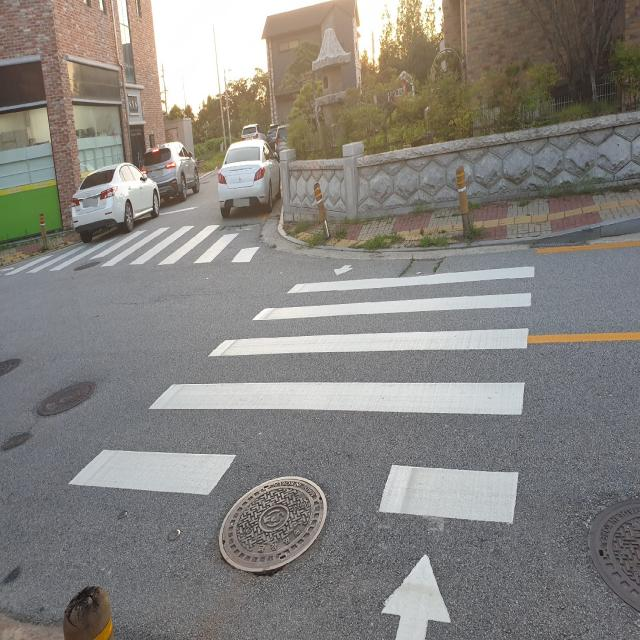횡단보도: (68, 263, 535, 639), (23, 220, 265, 273)
